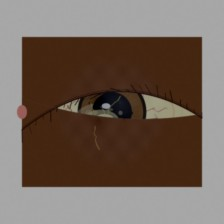corneal_ulcer: (71, 98, 131, 145)
